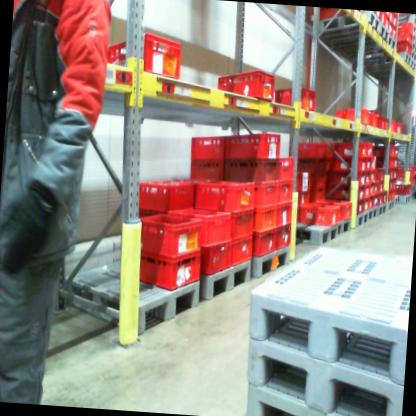pallet: (246, 238, 409, 391), (238, 292, 409, 416), (48, 256, 201, 344), (242, 379, 381, 416), (196, 257, 251, 310), (330, 17, 392, 60), (314, 9, 381, 45), (336, 29, 400, 64), (249, 244, 292, 283), (291, 219, 340, 249), (332, 215, 353, 237), (389, 50, 412, 68), (353, 209, 370, 232), (397, 16, 416, 32), (377, 201, 388, 219), (368, 205, 379, 222), (398, 193, 412, 206), (386, 197, 395, 212), (392, 194, 400, 207), (412, 25, 416, 40), (412, 51, 416, 65), (412, 45, 416, 57), (412, 61, 416, 72), (413, 37, 416, 48)
small_load_carrier: (103, 29, 186, 87), (128, 205, 203, 265), (129, 245, 204, 296), (212, 62, 285, 111), (133, 173, 195, 220), (192, 174, 255, 218), (221, 126, 282, 170), (270, 76, 321, 122), (222, 147, 282, 185), (190, 205, 234, 253), (198, 237, 235, 279), (187, 153, 229, 185), (188, 132, 228, 165), (299, 199, 342, 227), (245, 223, 277, 257), (253, 181, 280, 217), (323, 139, 367, 161), (230, 235, 255, 271), (250, 205, 278, 237), (231, 208, 256, 240), (336, 106, 372, 127), (327, 183, 366, 202), (295, 140, 327, 162), (275, 152, 298, 182), (274, 222, 295, 253), (331, 170, 366, 188), (291, 171, 314, 197), (333, 155, 366, 173), (275, 201, 296, 228), (277, 180, 296, 209), (332, 199, 355, 222), (367, 109, 381, 133), (396, 164, 414, 181), (374, 111, 389, 131), (379, 14, 392, 31), (399, 42, 413, 55), (369, 168, 378, 188), (374, 167, 385, 183), (361, 196, 371, 213), (376, 177, 386, 194), (364, 156, 374, 172), (364, 170, 373, 186), (365, 142, 375, 156), (356, 198, 364, 214), (372, 184, 380, 200), (364, 183, 372, 198), (382, 188, 390, 203), (388, 21, 395, 37), (372, 192, 379, 208), (396, 122, 402, 138), (392, 146, 399, 159), (378, 193, 384, 208), (372, 156, 377, 169)
